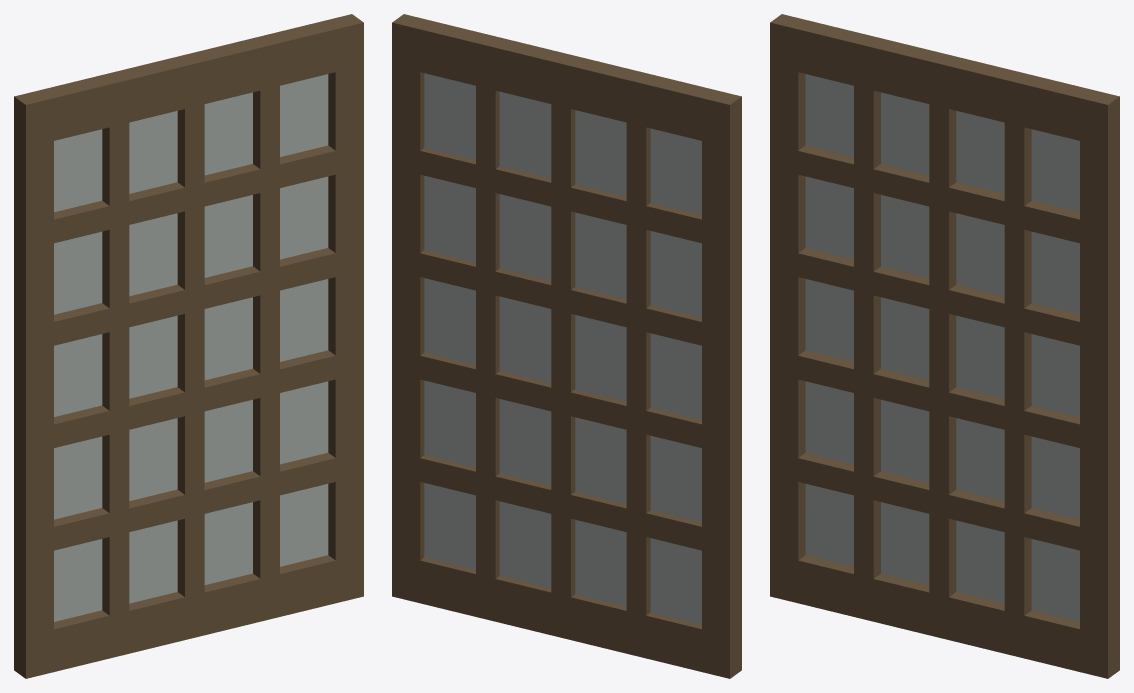
Rendered from SM_Env_Door_02.fbx.
3 renders of one model, left to right at view 1: azimuth 30°, elevation 25°; view 2: azimuth 150°, elevation 25°; view 3: azimuth 330°, elevation 25°, orthographic.
Parts seen in each view (by area): view 1: SM_Env_Door_02; view 2: SM_Env_Door_02; view 3: SM_Env_Door_02.
Boxes of the visible parts, x1,y1,x2,y2 form: SM_Env_Door_02: (14, 14, 363, 678); SM_Env_Door_02: (392, 14, 741, 678); SM_Env_Door_02: (770, 14, 1119, 678).
Bounding box in the file's own units: 82.24 × 133 × 4.94.
1 material, 1 textured.
